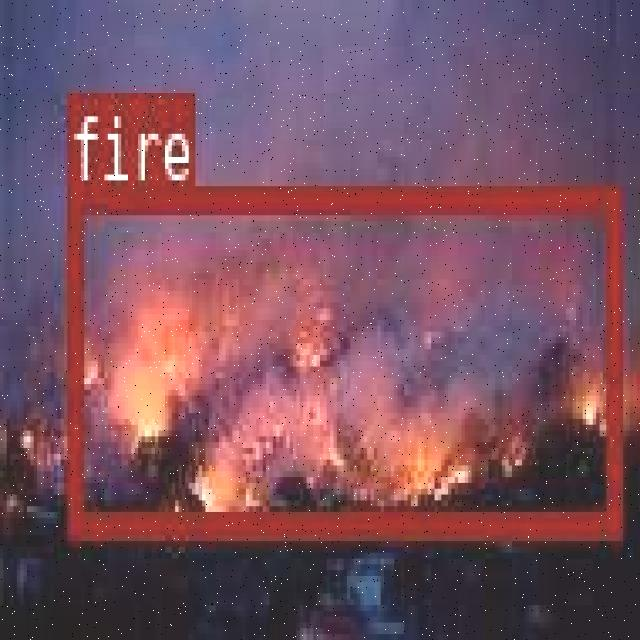fire: (65, 182, 618, 531)
